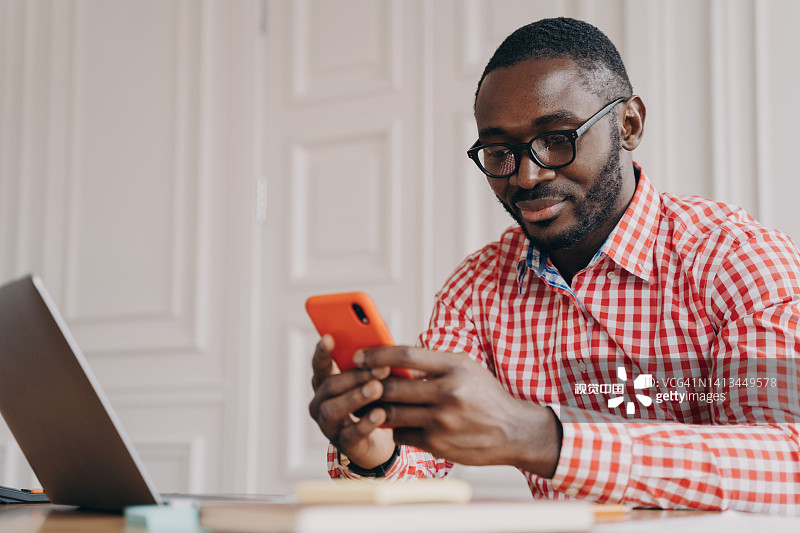reading: (274, 281, 557, 485)
